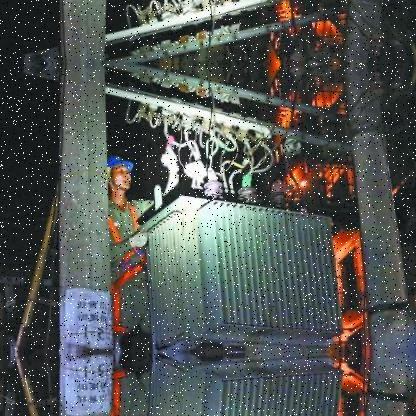helmet: (107, 155, 136, 198)
